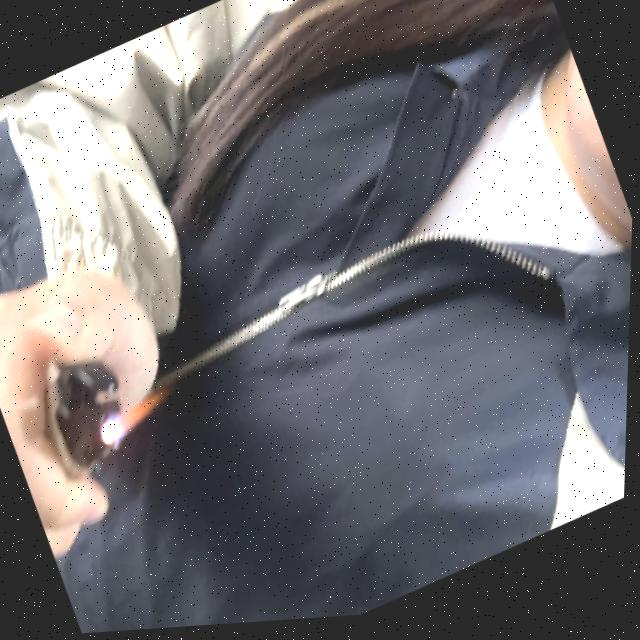Fire: (104, 389, 176, 448)
